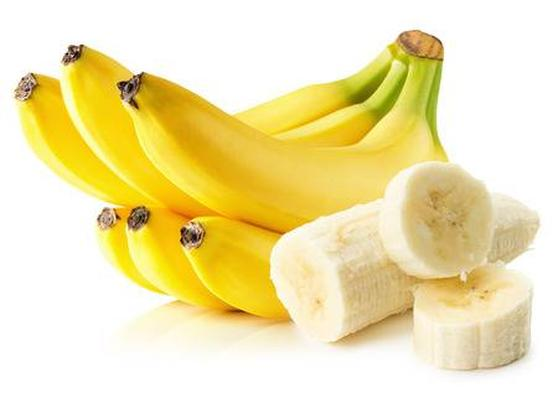banana: (124, 52, 443, 231)
